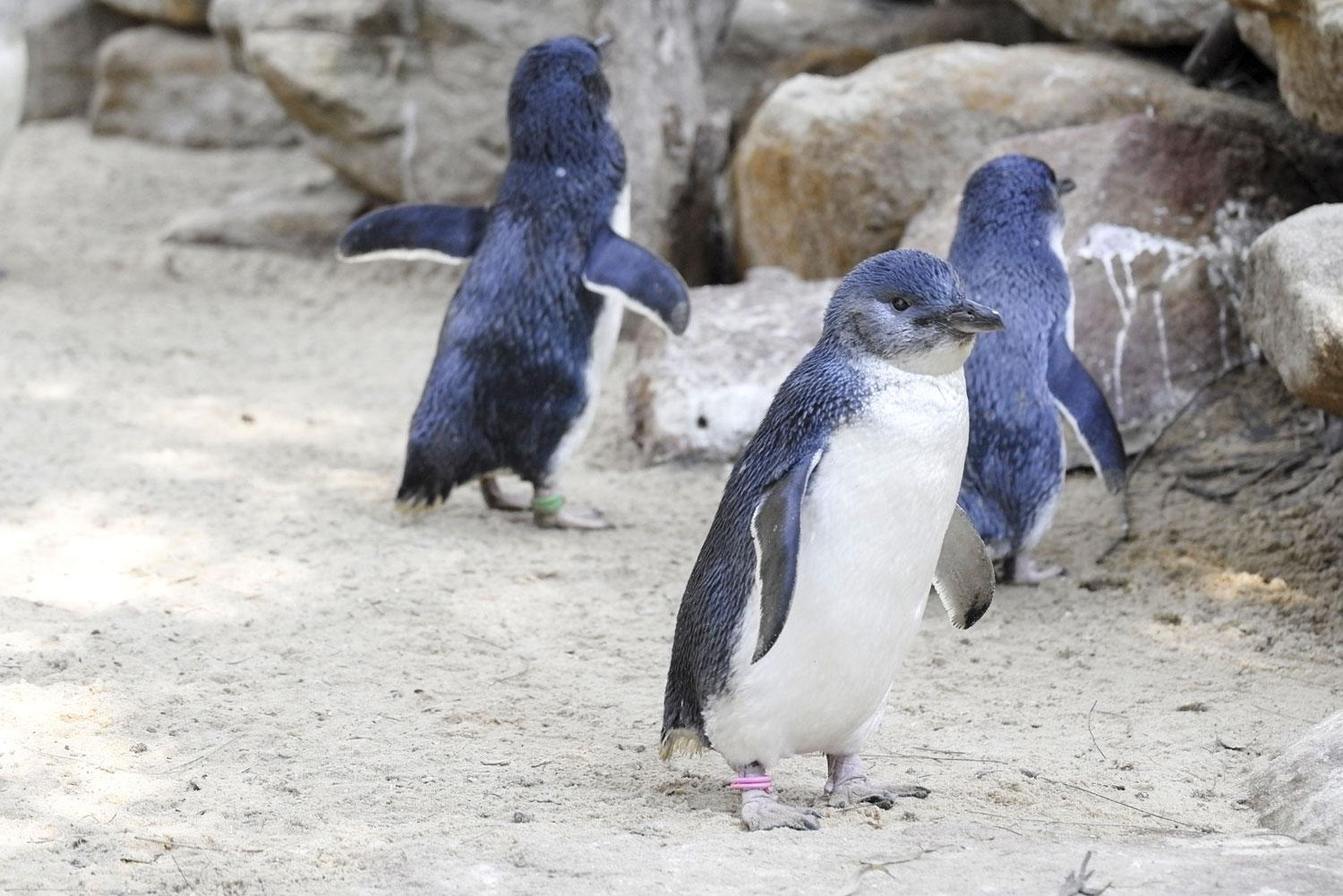Penguin: (661, 252, 1001, 828), (338, 37, 689, 528), (950, 155, 1131, 585)
